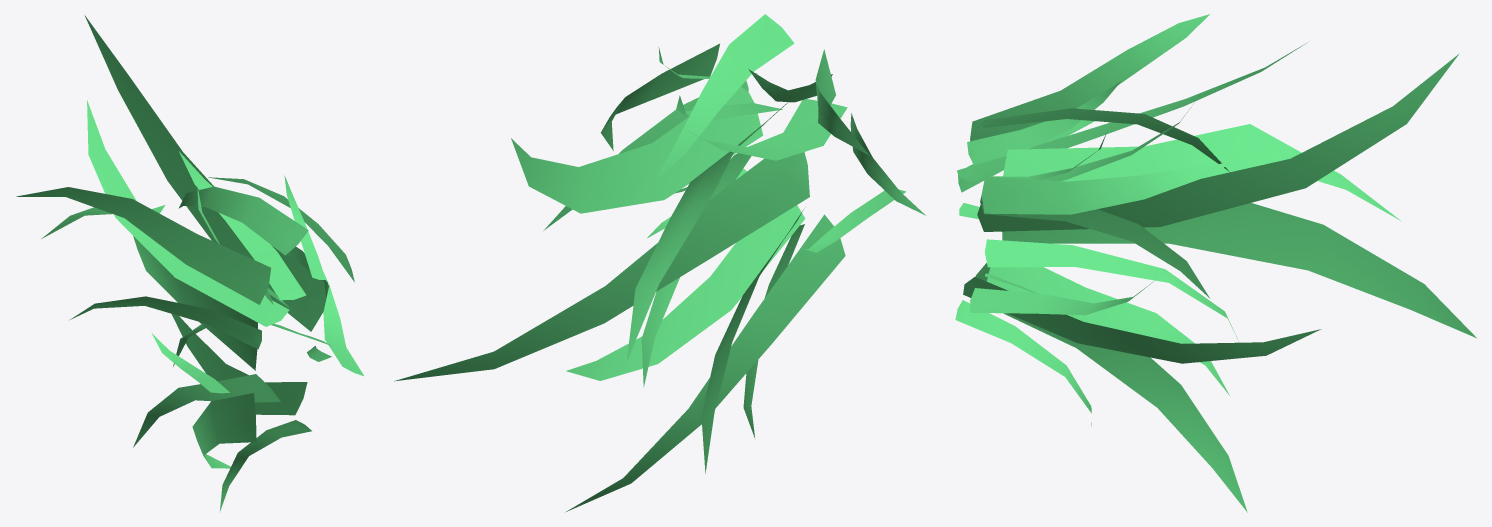
File: Grass3.fbx
3 views of the same model, side by side, from view 1: azimuth 30°, elevation 25°; view 2: azimuth 150°, elevation 25°; view 3: azimuth 270°, elevation 25° (orthographic). The views are drawn at different scales.
Visible parts, largest first — view 1: Plane; view 2: Plane; view 3: Plane.
Boxes of the visible parts, x1,y1,x2,y2 form: Plane: [16, 15, 363, 512]; Plane: [394, 14, 925, 511]; Plane: [955, 14, 1476, 512].
Bounding box in the file's own units: 184 × 168 × 123.
